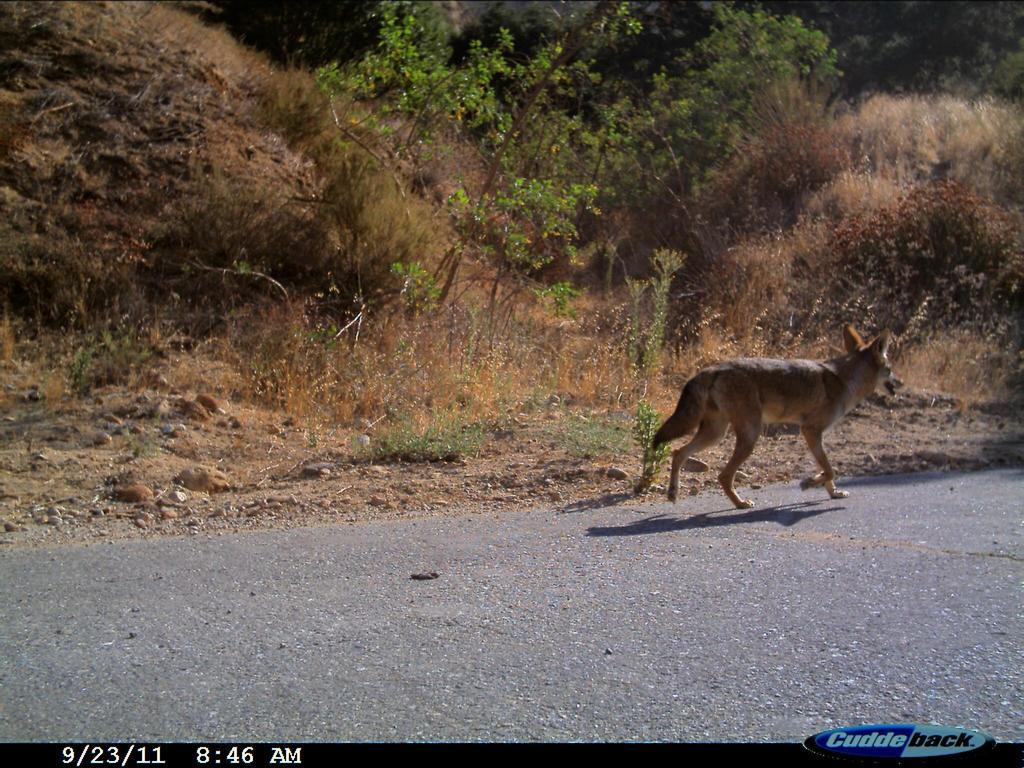coyote: (639, 322, 913, 518)
